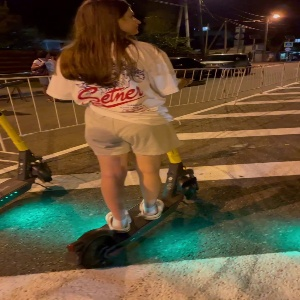human on a scooter: (44, 1, 207, 269)
